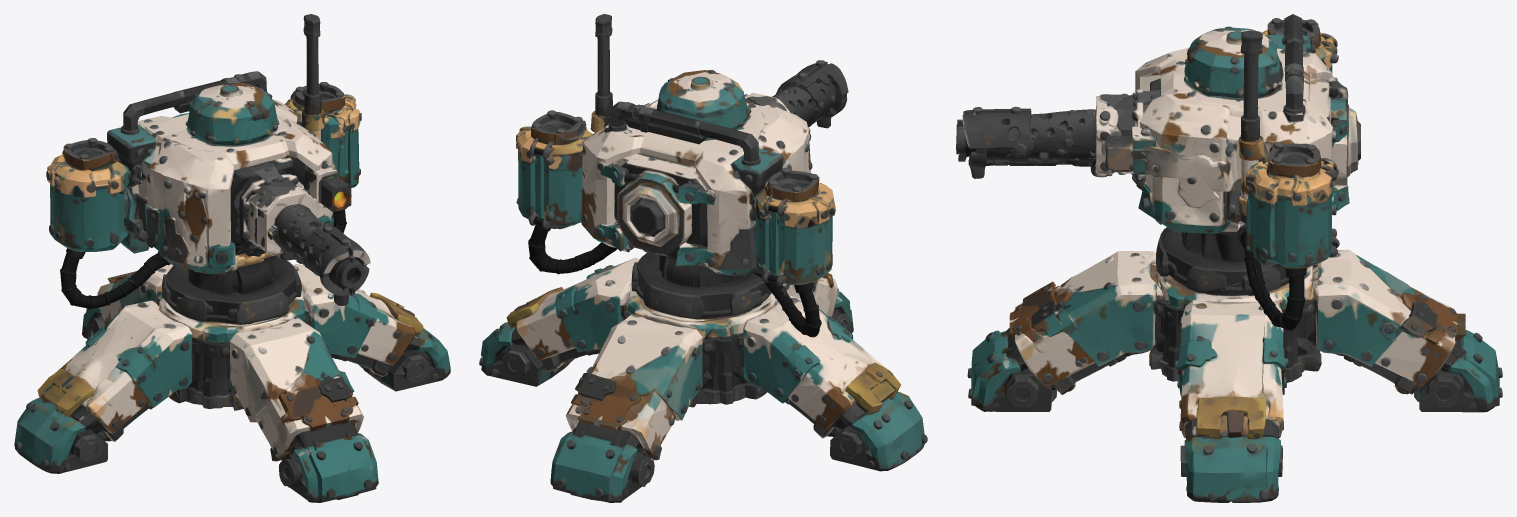
Rendered from Meshy_AI_Teal_Bastion_Gunner_20261028_texture_remesh_tri.fbx.
The picture shows the model from 3 angles, left to right: view 1: azimuth 30°, elevation 25°; view 2: azimuth 150°, elevation 25°; view 3: azimuth 270°, elevation 25°; orthographic projection. The views are drawn at different scales.
Parts seen in each view (by area): view 1: output_unwrapped; view 2: output_unwrapped; view 3: output_unwrapped.
Boxes of the visible parts, left/top/right/bottom form: output_unwrapped: left=14, top=14, right=450, bottom=502; output_unwrapped: left=479, top=14, right=927, bottom=502; output_unwrapped: left=956, top=14, right=1502, bottom=502.
Size of the model in its own units: 183 by 156 by 189.
Materials: 1 (1 with a texture image).
